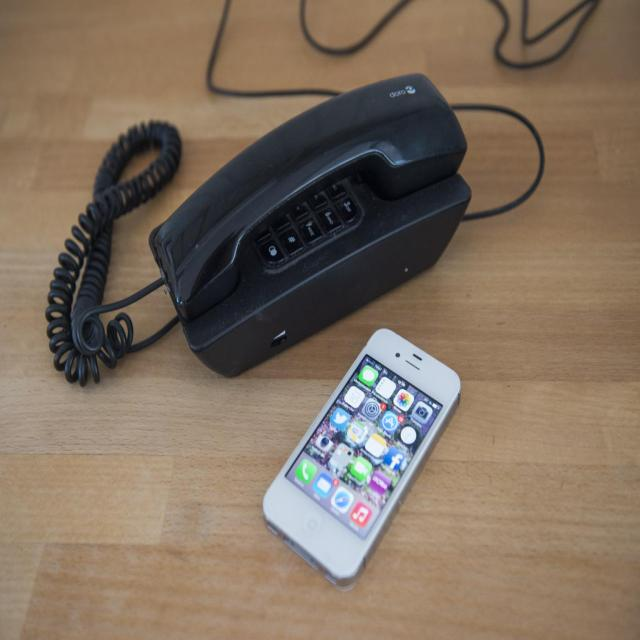Phone: (38, 61, 474, 389), (256, 314, 466, 610)
